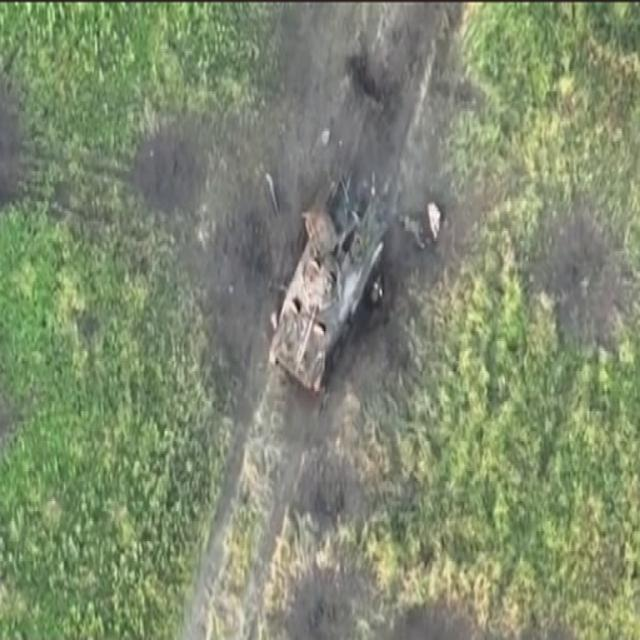APC-IFV: (251, 196, 395, 396)
